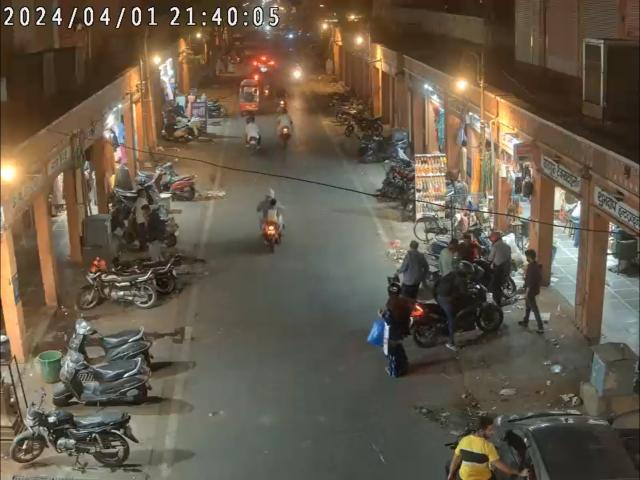car: (488, 409, 640, 480)
motorbike: (7, 402, 135, 466), (74, 268, 166, 310)
motorbike-rider: (403, 260, 501, 344), (258, 194, 286, 252), (241, 112, 266, 155), (275, 104, 299, 148)
scooty: (62, 314, 156, 408)
